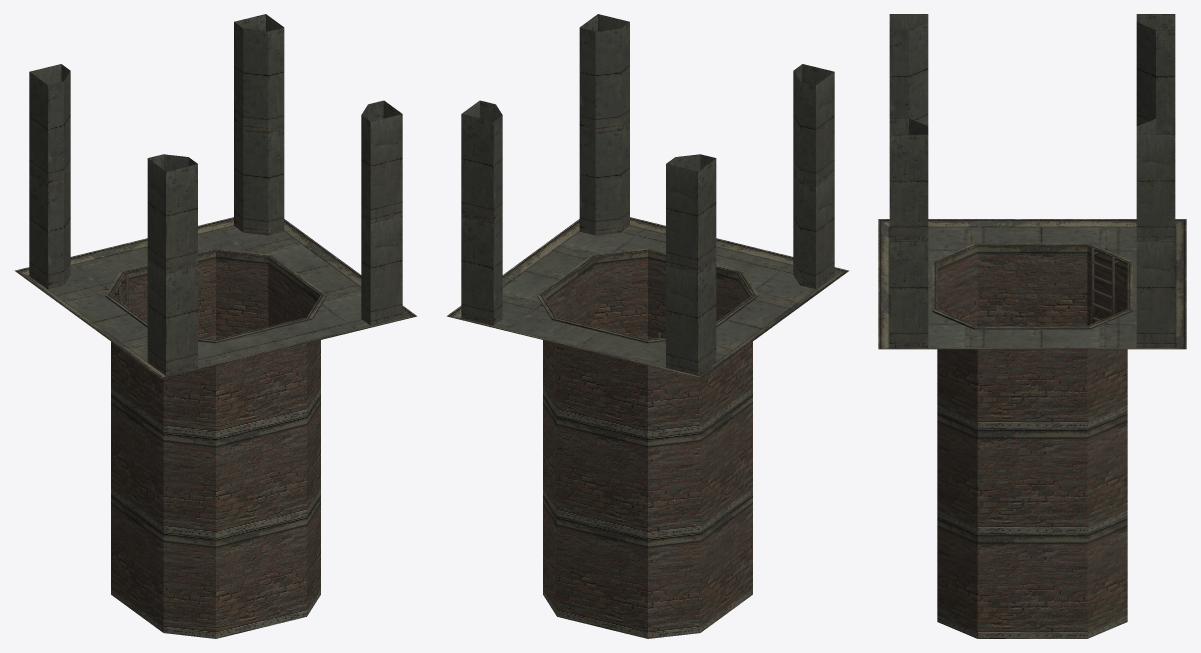
File: structure_piece_rg_1_1.obj
3 renders of one model, left to right at view 1: azimuth 30°, elevation 25°; view 2: azimuth 150°, elevation 25°; view 3: azimuth 270°, elevation 25°, orthographic. The views are drawn at different scales.
Parts seen in each view (by area): view 1: structure_piece_rg_1_1; view 2: structure_piece_rg_1_1; view 3: structure_piece_rg_1_1.
Boxes of the visible parts, bbox=[...] form: structure_piece_rg_1_1: bbox=[14, 14, 417, 638]; structure_piece_rg_1_1: bbox=[446, 14, 849, 638]; structure_piece_rg_1_1: bbox=[878, 14, 1186, 638].
Bounding box in the file's own units: 8 × 15 × 8.
